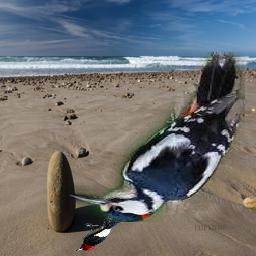Woodpecker: (71, 52, 246, 222), (74, 215, 119, 252)
